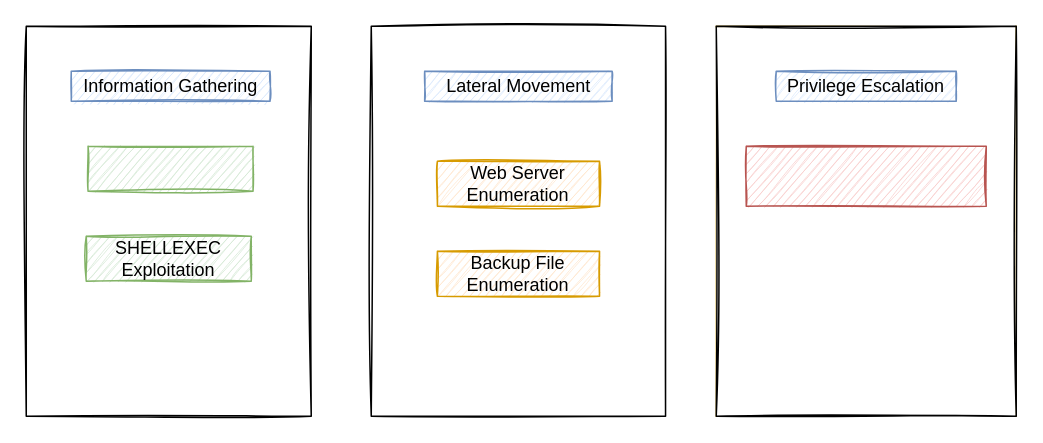
Some shapes in this 1043 by 443 pixel diagram are drawn without their labels. The shapes that lost their labels are listed below. From the top down, each one's centre as x and y in pixels, then its label:
point (170, 168): Jackson-databind Exploitation
point (865, 175): Tarball Exploitation
